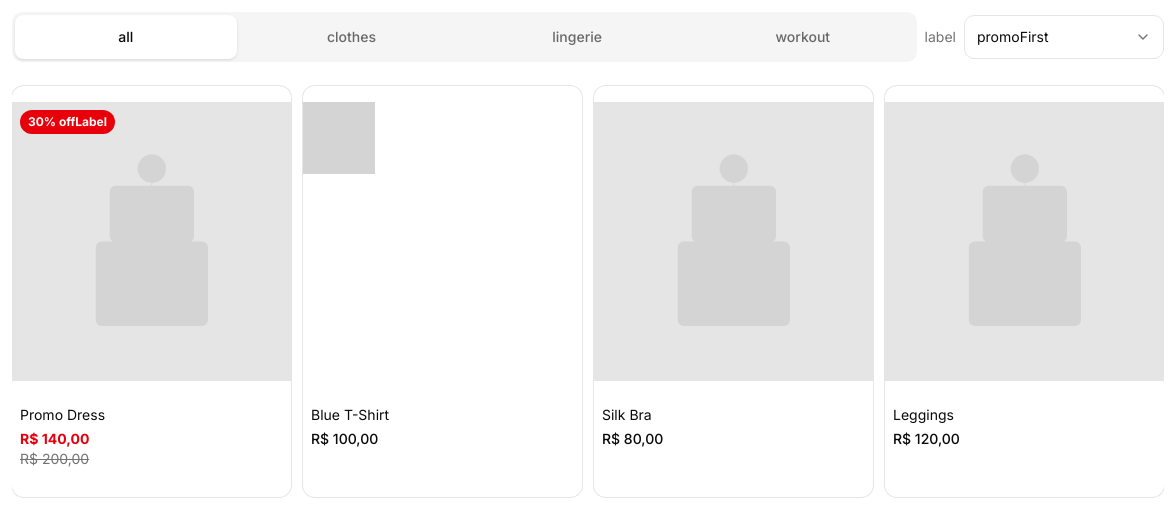
Test: CategoryFilter › shows only LINGERIE products after clicking the LINGERIE tab
The width and height of the screenshot is (1176, 515).
Click the tab "lingerie": (577, 37) x1=466 y1=15 x2=688 y2=59
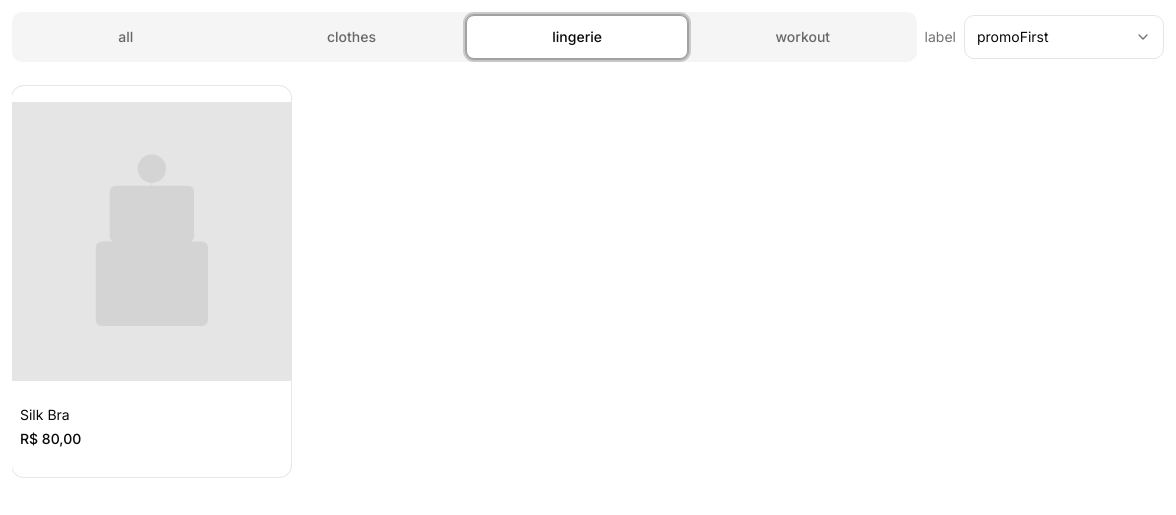
Expected: the text "Silk Bra" is shown, x1=20 y1=406 x2=70 y2=423
Result: the link "Blue T-Shirt" is gone
Result: the link "Leggings" is gone
